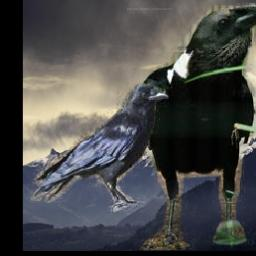Crow: (137, 3, 256, 250), (32, 78, 170, 212)
